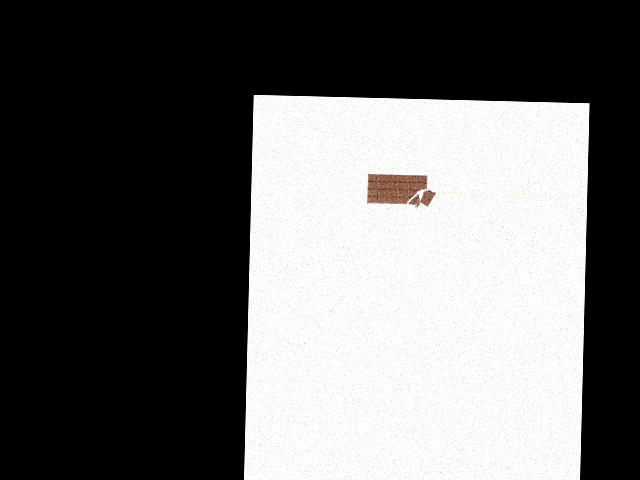chocolate: (365, 169, 436, 214)
